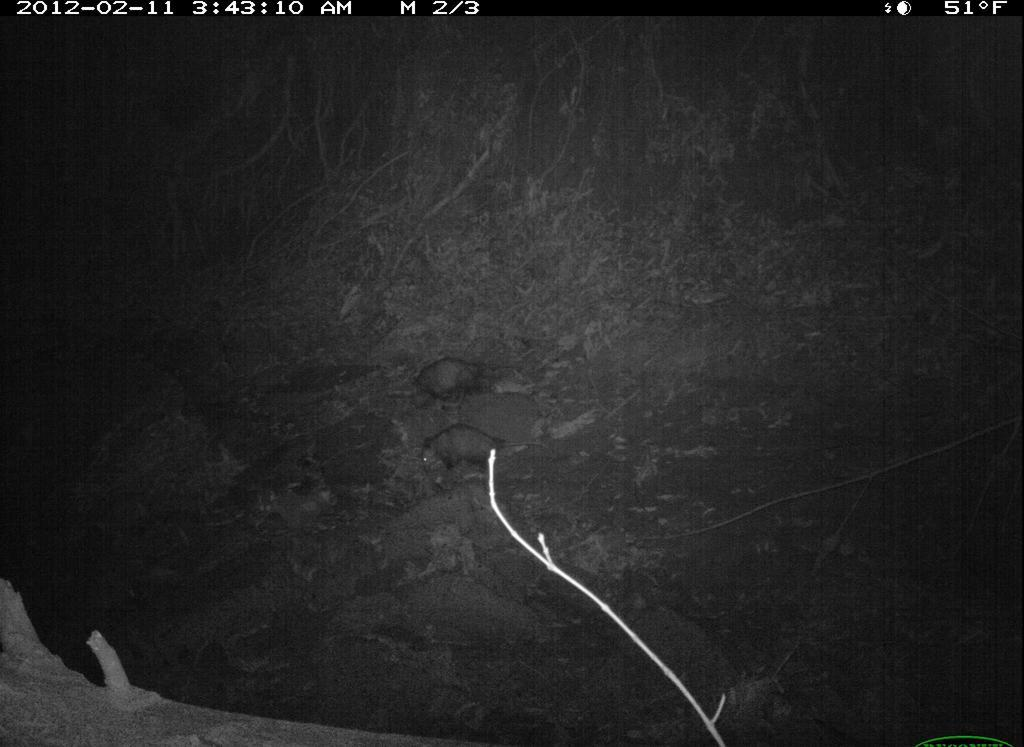opossum: (402, 420, 530, 491), (408, 354, 516, 409)
